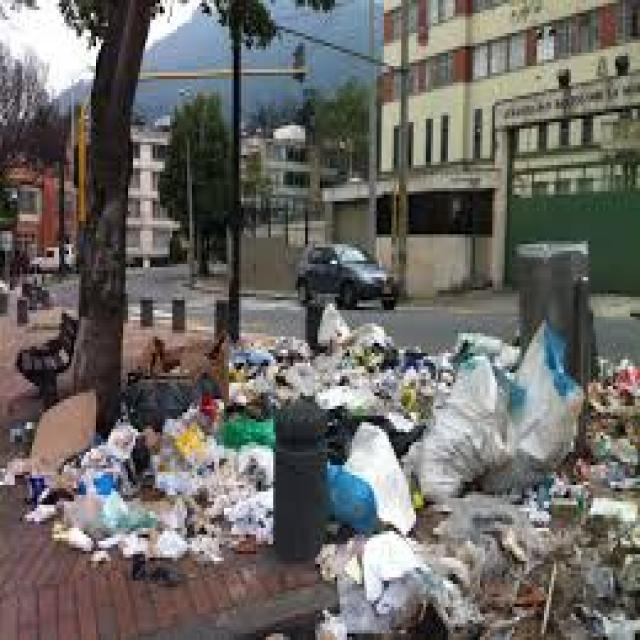garbage: (324, 305, 639, 640), (0, 380, 278, 590), (126, 332, 324, 396)
